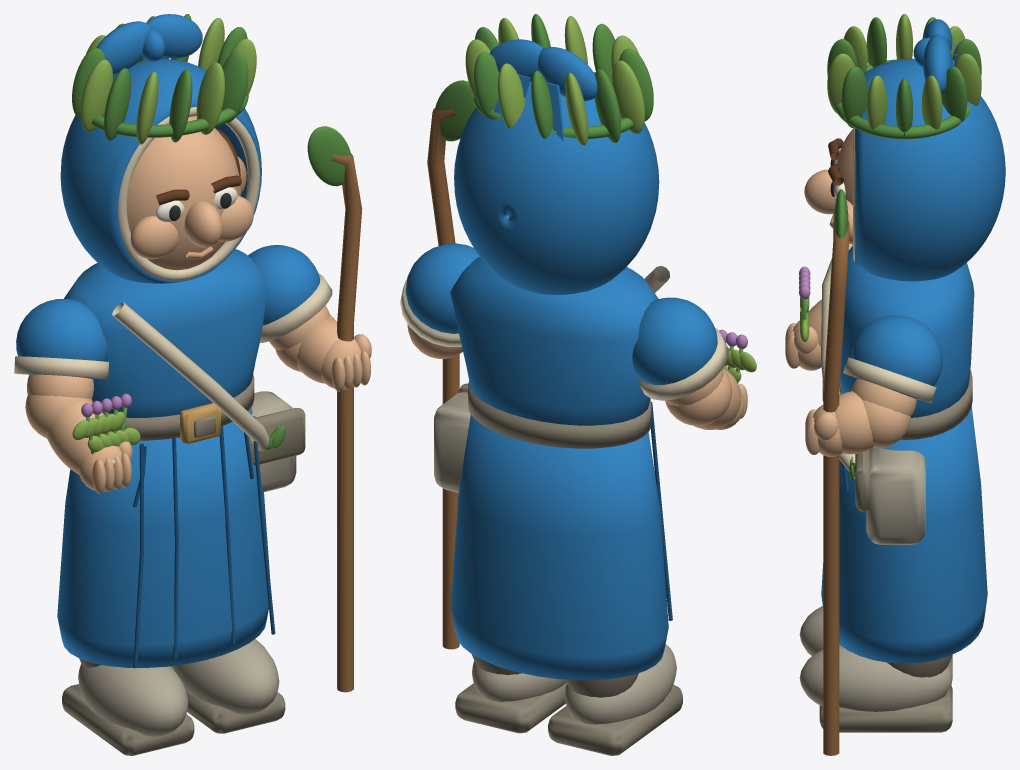
File: heler_senior.glb
3 renders of one model, left to right at view 1: azimuth 30°, elevation 25°; view 2: azimuth 150°, elevation 25°; view 3: azimuth 270°, elevation 25°, orthographic. The views are drawn at different scales.
Visible parts, largest first — view 1: TEAM_Long_felt_robe.002, Tunic_torso.005, TEAM_Soft_hood.002, Wooden_walking_staff.002, Head.005, Boot_toe.010, Boot_toe.011, Herbs_Felt_sleeve.002, Hood_cream_lining.002, Satchel_woven_strap.002, Walking_staff_Felt_sleeve.002, Boot_sole.010 (+34 smaller); view 2: TEAM_Long_felt_robe.002, TEAM_Soft_hood.002, Tunic_torso.005, Herbs_Felt_sleeve.002, Wooden_walking_staff.002, Belt.005, Walking_staff_Felt_sleeve.002, Boot_sole.010, Boot_toe.010, Boot_sole.011, Healer_felt_satchel.002, Boot_toe.011 (+22 smaller); view 3: TEAM_Long_felt_robe.002, TEAM_Soft_hood.002, Tunic_torso.005, Wooden_walking_staff.002, Boot_toe.011, Healer_felt_satchel.002, Walking_staff_Felt_sleeve.002, Boot_sole.011, Walking_staff_Forearm.002, Walking_staff_Cream_cuff.002, Belt.005, Leaf_crown_vine (+28 smaller).
Part boxes in pixels (x1,y1,x2,y2): TEAM_Long_felt_robe.002: (57, 407, 269, 667); Tunic_torso.005: (64, 249, 268, 417); TEAM_Soft_hood.002: (60, 59, 261, 283); Wooden_walking_staff.002: (331, 153, 362, 692); Head.005: (127, 116, 240, 270); Boot_toe.010: (78, 664, 188, 736); Boot_toe.011: (171, 639, 279, 714); Herbs_Felt_sleeve.002: (16, 299, 107, 378); Hood_cream_lining.002: (118, 106, 259, 280); Satchel_woven_strap.002: (112, 302, 268, 451); Walking_staff_Felt_sleeve.002: (248, 245, 319, 325); Boot_sole.010: (62, 684, 194, 755); TEAM_Long_felt_robe.002: (450, 415, 668, 680); TEAM_Soft_hood.002: (454, 73, 659, 294); Tunic_torso.005: (450, 257, 658, 425); Herbs_Felt_sleeve.002: (632, 297, 717, 384); Wooden_walking_staff.002: (427, 108, 459, 649); Belt.005: (468, 381, 651, 448); Walking_staff_Felt_sleeve.002: (405, 243, 479, 333); Boot_sole.010: (548, 684, 682, 755); Boot_toe.010: (564, 644, 676, 724); Boot_sole.011: (455, 682, 566, 733); Healer_felt_satchel.002: (434, 392, 470, 492); Boot_toe.011: (472, 660, 566, 701); TEAM_Long_felt_robe.002: (821, 407, 987, 663); TEAM_Soft_hood.002: (855, 58, 1005, 281); Tunic_torso.005: (840, 246, 974, 417); Wooden_walking_staff.002: (823, 221, 849, 755); Boot_toe.011: (799, 645, 952, 711); Healer_felt_satchel.002: (866, 448, 925, 544); Walking_staff_Felt_sleeve.002: (851, 315, 942, 398); Boot_sole.011: (819, 685, 952, 732); Walking_staff_Forearm.002: (834, 391, 873, 454); Walking_staff_Cream_cuff.002: (843, 357, 936, 402); Belt.005: (839, 370, 972, 439); Leaf_crown_vine: (834, 59, 971, 139).
Size of the model in its own units: 1.08 by 2.21 by 0.6619.
